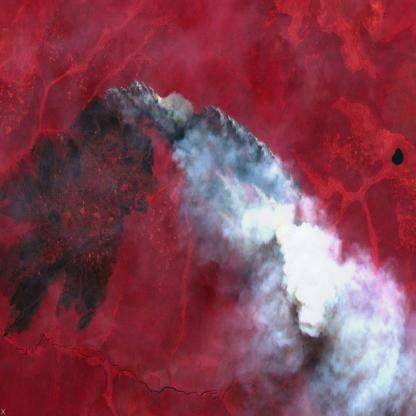fire: (101, 75, 309, 237)
